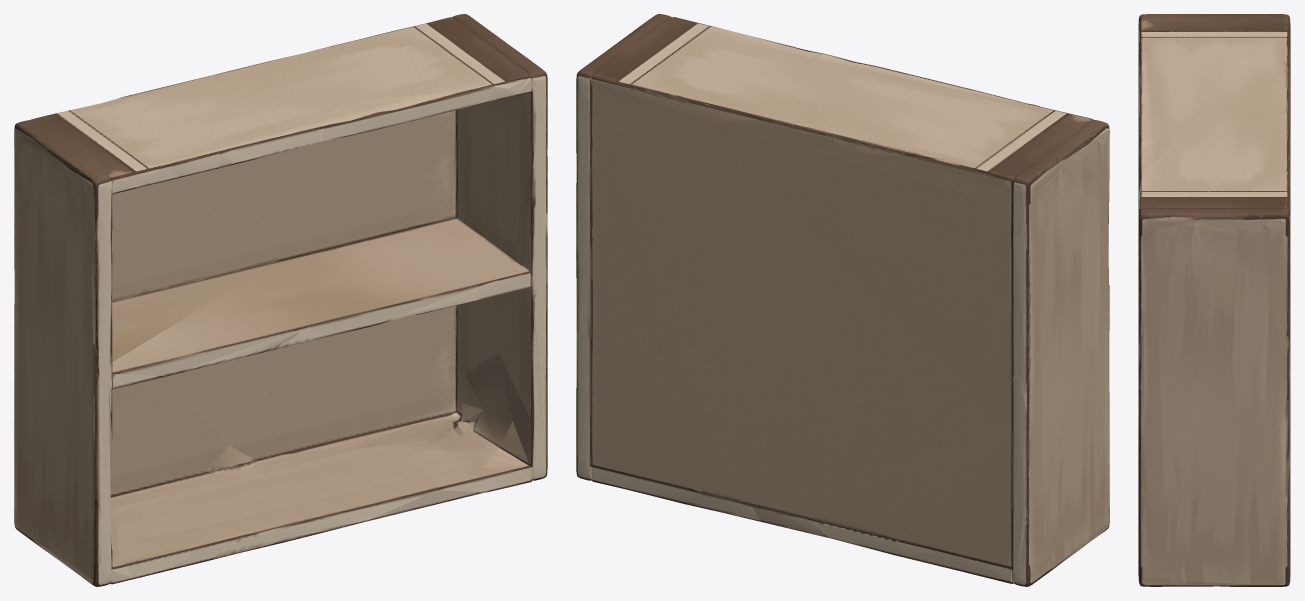
File: raw_shelf_low.glb
The picture shows the model from 3 angles, left to right: view 1: azimuth 30°, elevation 25°; view 2: azimuth 150°, elevation 25°; view 3: azimuth 270°, elevation 25°; orthographic projection. The views are drawn at different scales.
Bounding box in the file's own units: 1.9 × 1.63 × 0.6038.
1 material, 1 textured.
